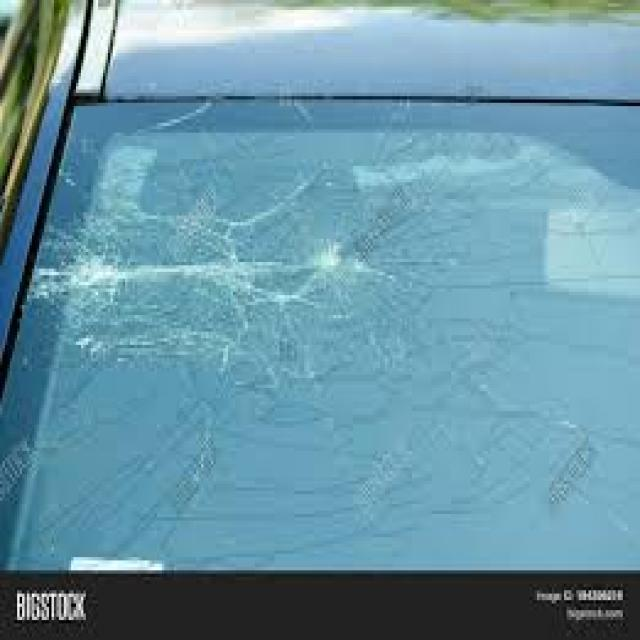damaged-rear-window: (10, 80, 640, 574)
